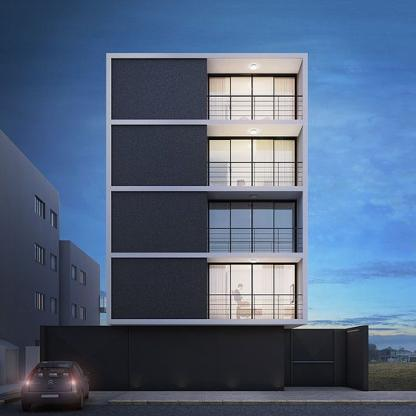Balcony: (208, 295, 303, 319), (208, 96, 303, 120), (208, 162, 303, 186), (208, 229, 303, 253)
Building Outline: (39, 52, 369, 392)
Floor Slab: (38, 52, 369, 393), (107, 120, 308, 124), (107, 186, 308, 190), (107, 253, 308, 257), (107, 320, 308, 324)
Glass Wall: (210, 264, 295, 319), (210, 202, 295, 253), (210, 140, 295, 185), (210, 78, 295, 120)
